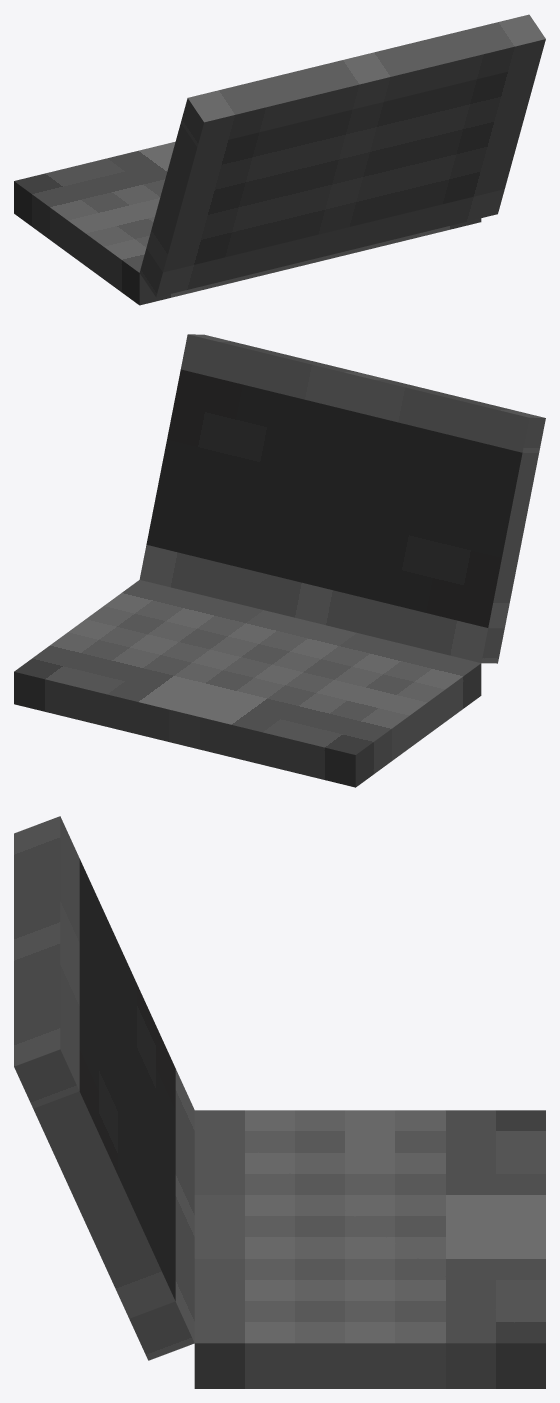
File: Laptop.fbx
3 renders of one model, top to bottom at view 1: azimuth 30°, elevation 25°; view 2: azimuth 150°, elevation 25°; view 3: azimuth 270°, elevation 25°, orthographic. The views are drawn at different scales.
Parts seen in each view (by area): view 1: Screen_1, Screen_2, cube, Screen; view 2: Screen_3, cube, Screen_2, Screen, Screen_1; view 3: cube, Screen_3, Screen_2, Screen_1, Screen.
Boxes of the visible parts, x1,y1,x2,y2 form: Screen_1: (146, 64, 538, 272); Screen_2: (181, 14, 545, 147); cube: (14, 141, 481, 305); Screen: (139, 189, 504, 297); Screen_3: (146, 369, 522, 627); cube: (14, 580, 481, 787); Screen_2: (181, 334, 545, 452); Screen: (139, 545, 504, 663); Screen_1: (488, 452, 538, 628); cube: (194, 1110, 545, 1388); Screen_3: (79, 859, 175, 1301); Screen_2: (14, 816, 79, 1108); Screen_1: (33, 1091, 174, 1318); Screen: (129, 1069, 194, 1360).
Bounding box in the file's own units: 68.75 × 46.67 × 66.27.
